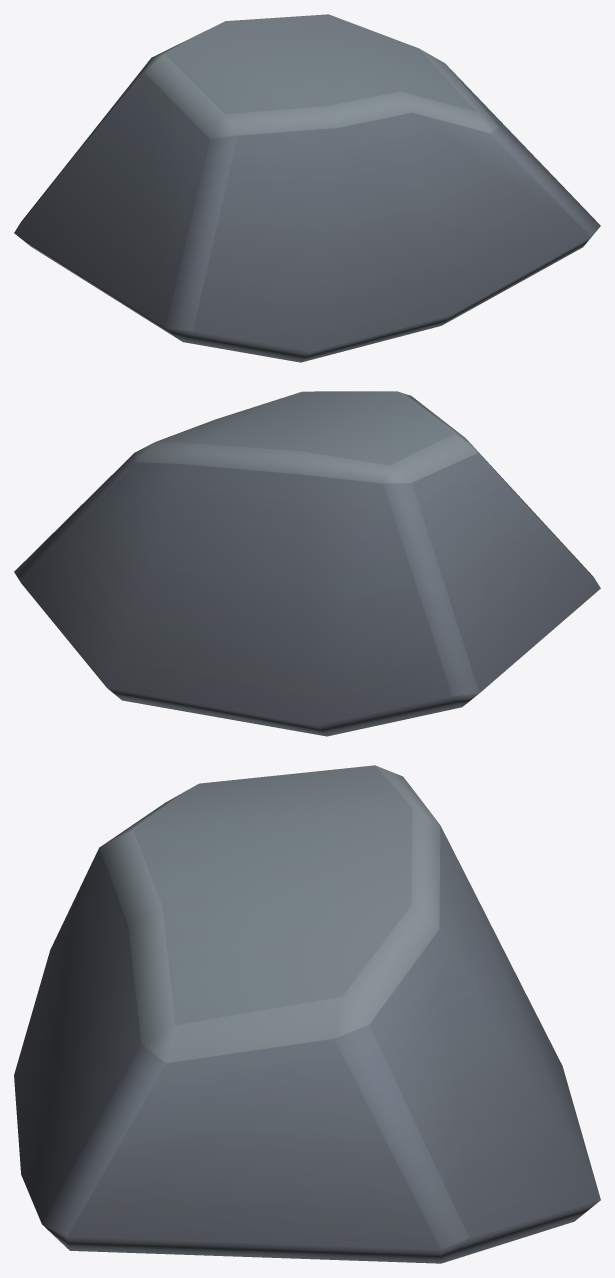
File: rock_016.fbx
3 views of the same model, one above another, from view 1: azimuth 30°, elevation 25°; view 2: azimuth 150°, elevation 25°; view 3: azimuth 270°, elevation 25° (orthographic). The views are drawn at different scales.
Visible parts, largest first — view 1: rock_016; view 2: rock_016; view 3: rock_016.
Part boxes in pixels (<box>): rock_016: <box>14,14,600,362</box>; rock_016: <box>14,391,600,736</box>; rock_016: <box>14,765,600,1263</box>.
Size of the model in its own units: 197 by 93.95 by 151.
